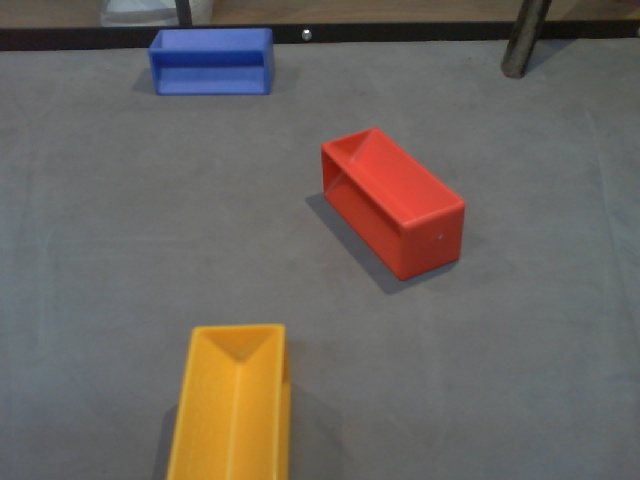BlueSample: (144, 22, 278, 102)
RedSample: (318, 126, 465, 282)
YellowSample: (161, 321, 293, 480)
